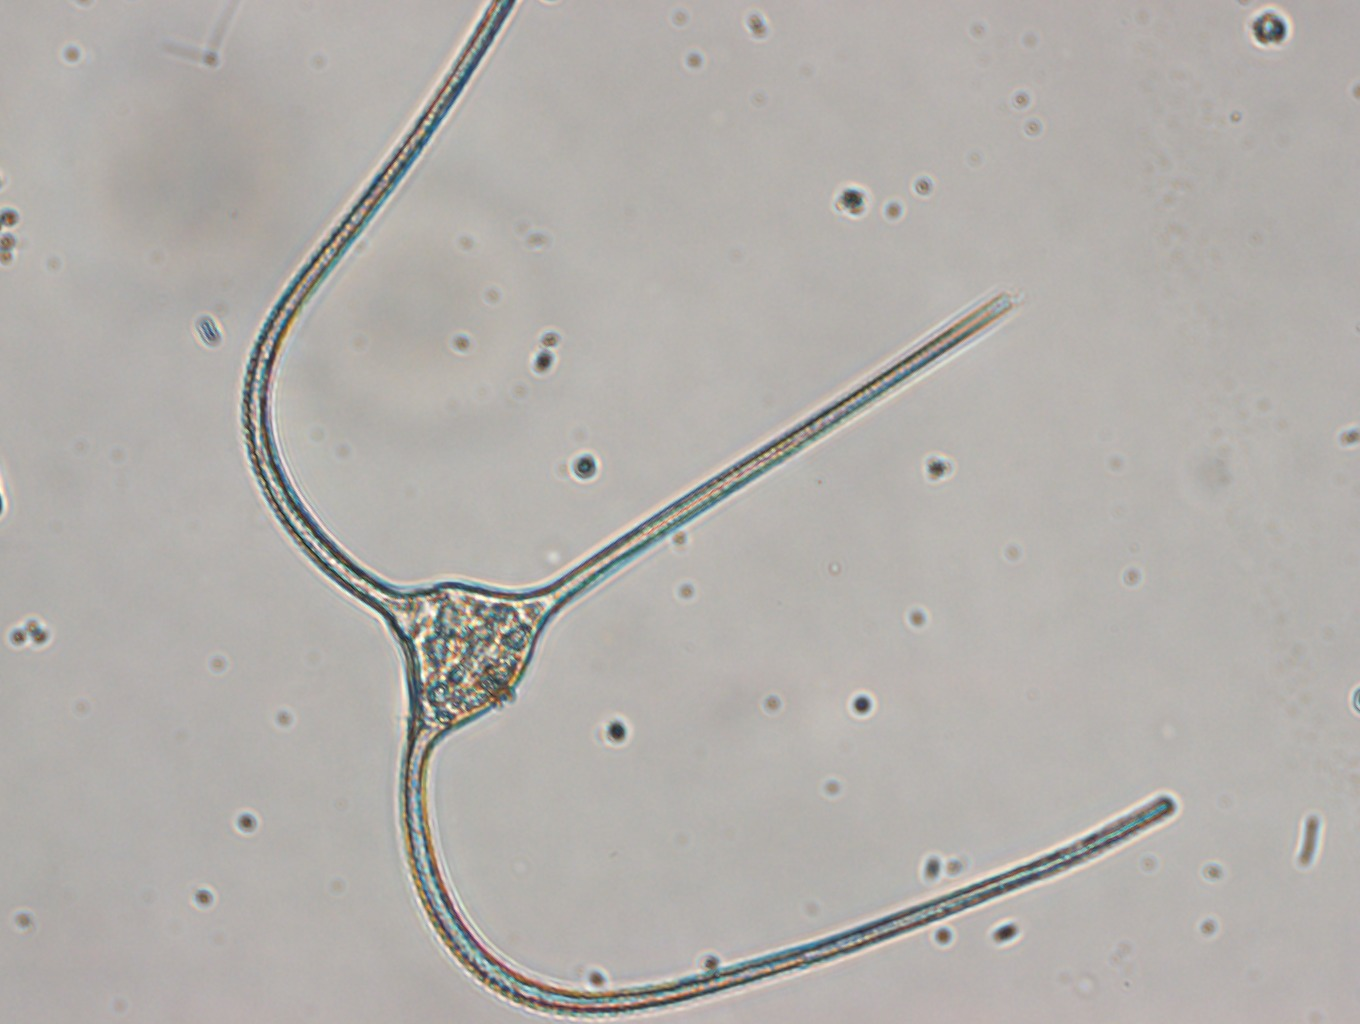ceratium trichoceros: (239, 1, 1183, 1019)
